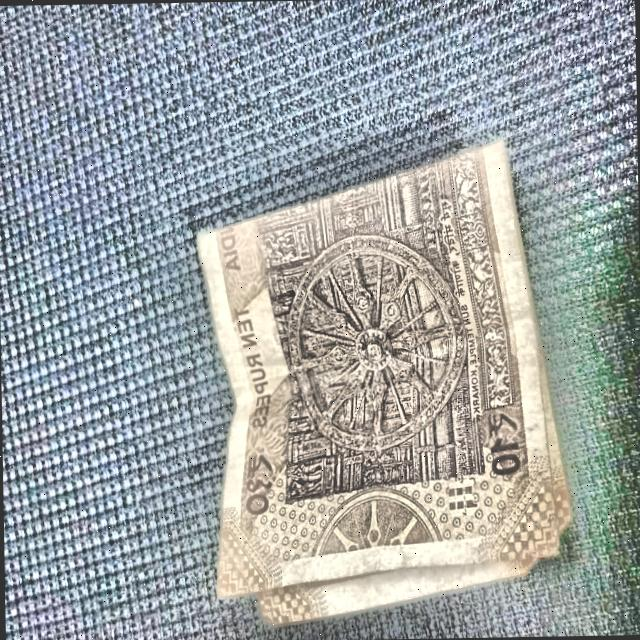-10-: (163, 94, 577, 617)
